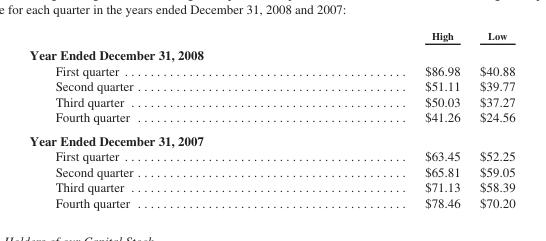table: (28, 29, 514, 209)
table column: (28, 29, 278, 209), (278, 29, 469, 209), (469, 29, 514, 209)
table column header: (28, 29, 514, 44)
table projected row header: (28, 128, 514, 148), (28, 44, 514, 62)
table row: (28, 128, 514, 148), (28, 109, 514, 128), (28, 44, 514, 62), (28, 62, 514, 78), (28, 93, 514, 109), (28, 163, 514, 179), (28, 29, 514, 44), (28, 78, 514, 93), (28, 148, 514, 163), (28, 179, 514, 194), (28, 194, 514, 209)
